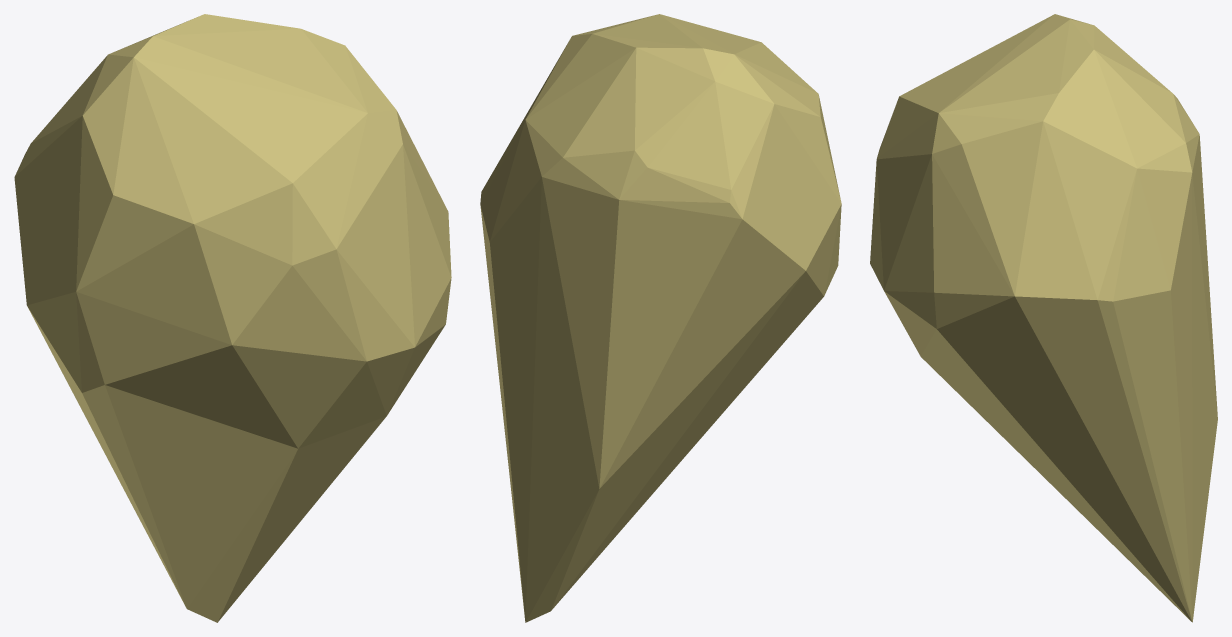
The model's file is food_produce_pear_f01.glb.
3 renders of one model, left to right at view 1: azimuth 30°, elevation 25°; view 2: azimuth 150°, elevation 25°; view 3: azimuth 270°, elevation 25°, orthographic. The views are drawn at different scales.
Parts seen in each view (by area): view 1: geometry_0; view 2: geometry_0; view 3: geometry_0.
Part boxes in pixels (box(x1,y1,x2,y2)): geometry_0: box(14, 14, 451, 622); geometry_0: box(480, 14, 841, 622); geometry_0: box(870, 14, 1217, 622).
Size of the model in its own units: 0.2831 by 0.4728 by 0.272.
